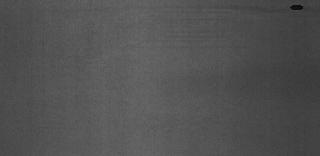punching hole: (289, 3, 305, 11)
